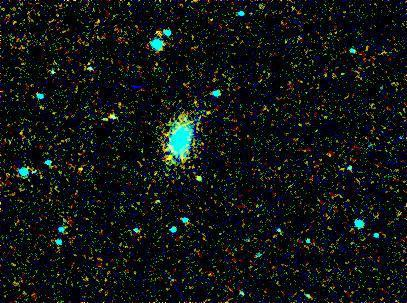star: (146, 18, 176, 48)
